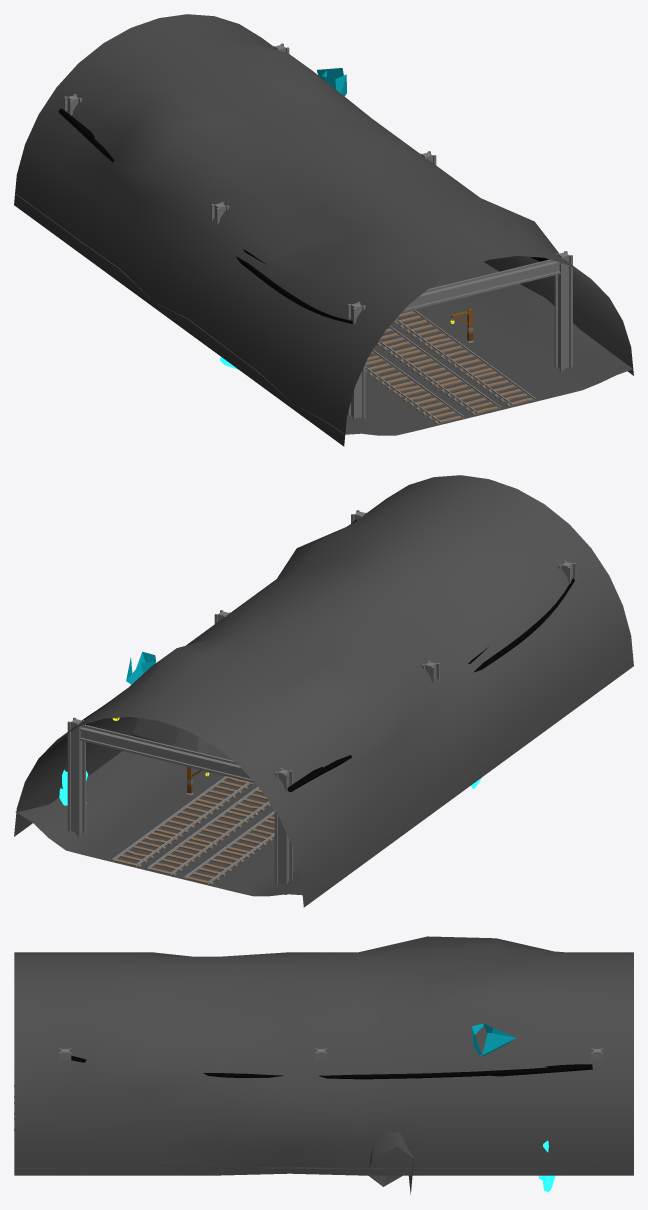
File: Modulo V3.fbx
3 renders of one model, top to bottom at view 1: azimuth 30°, elevation 25°; view 2: azimuth 150°, elevation 25°; view 3: azimuth 270°, elevation 25°, orthographic. The views are drawn at different scales.
Parts seen in each view (by area): view 1: Cube.032; view 2: Cube.032; view 3: Cube.032.
Part boxes in pixels (x1,y1,x2,y2): Cube.032: [14, 14, 633, 446]; Cube.032: [14, 475, 633, 907]; Cube.032: [14, 936, 633, 1194].
Size of the model in its own units: 2545 by 1466 by 4762.
